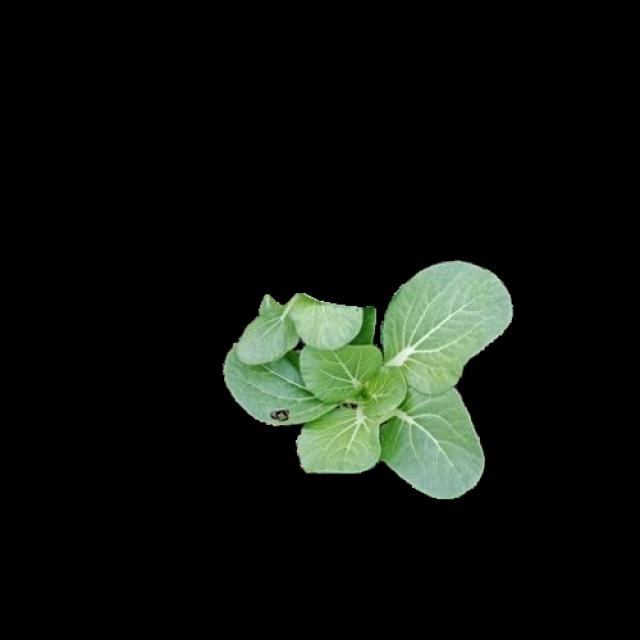not-mature: (225, 261, 511, 499)
unhealthy: (226, 348, 350, 426)
